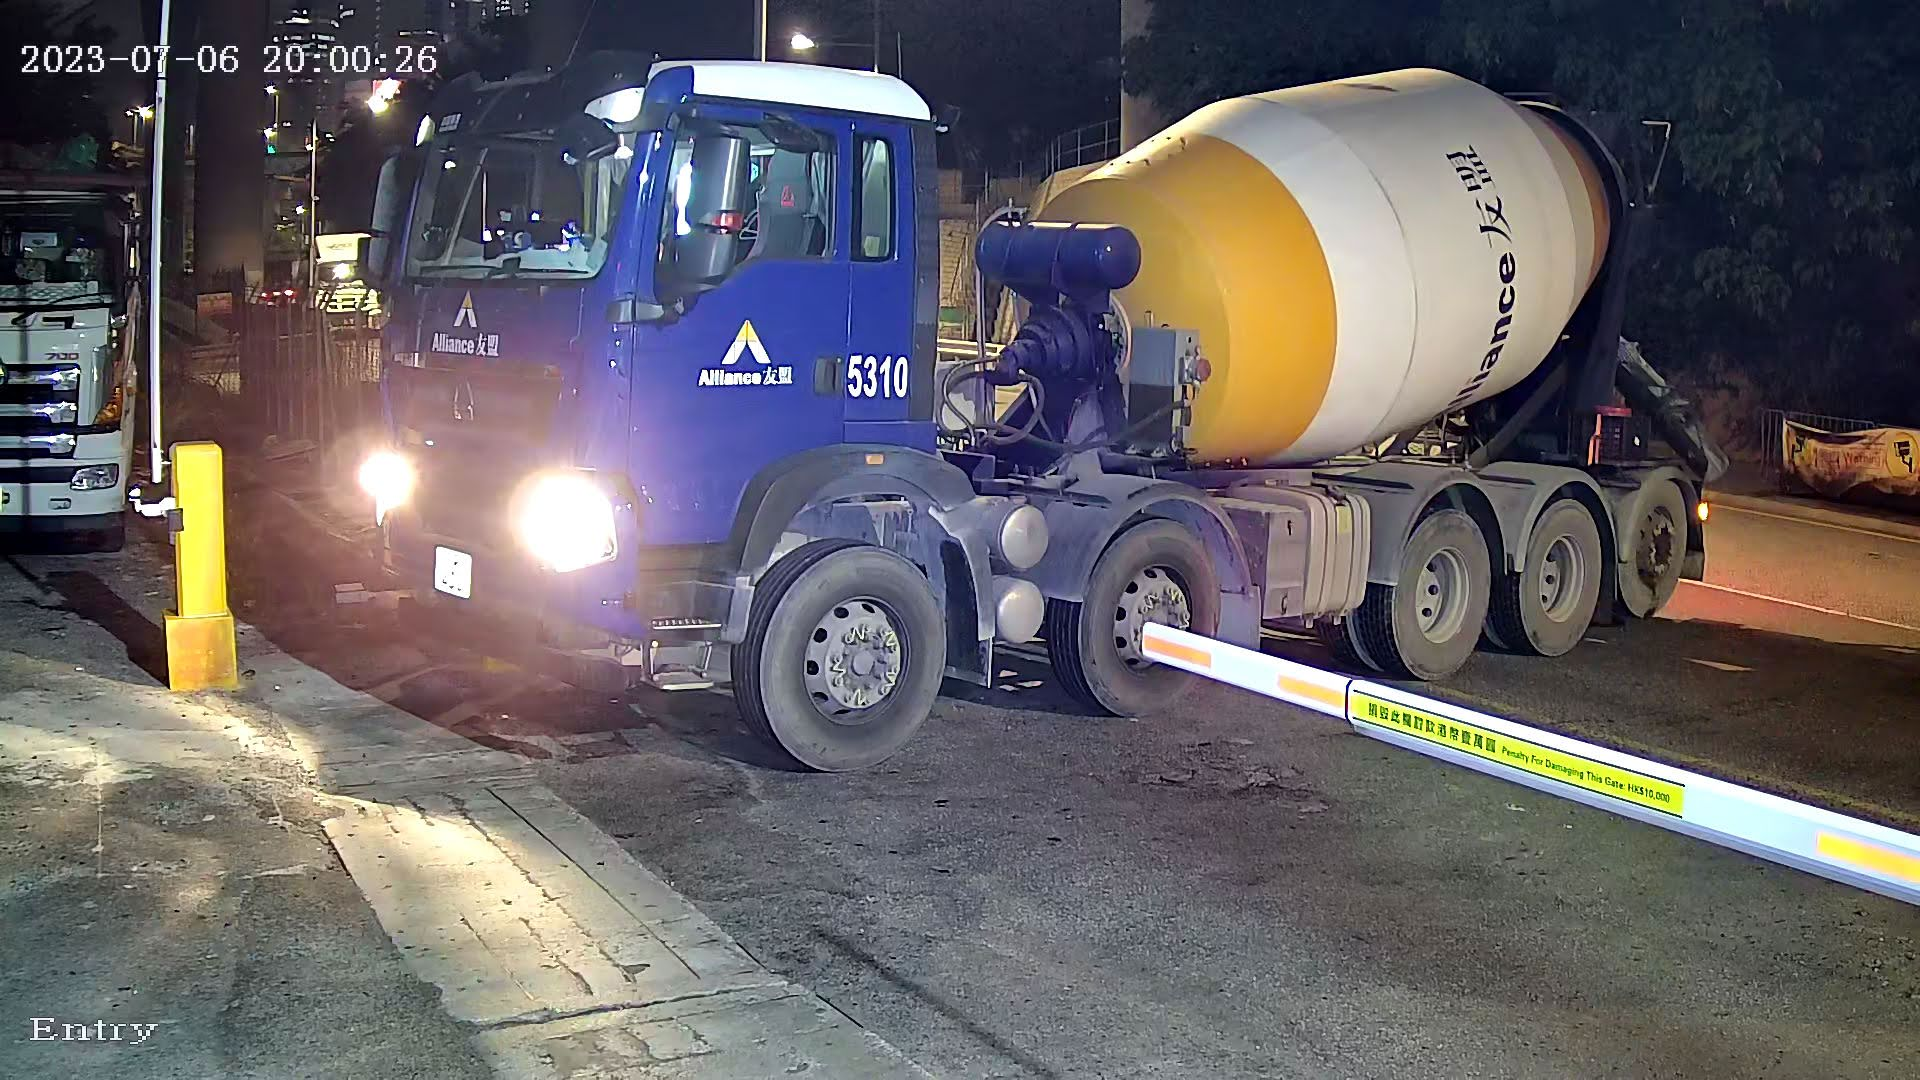truck: (287, 1, 1729, 785)
